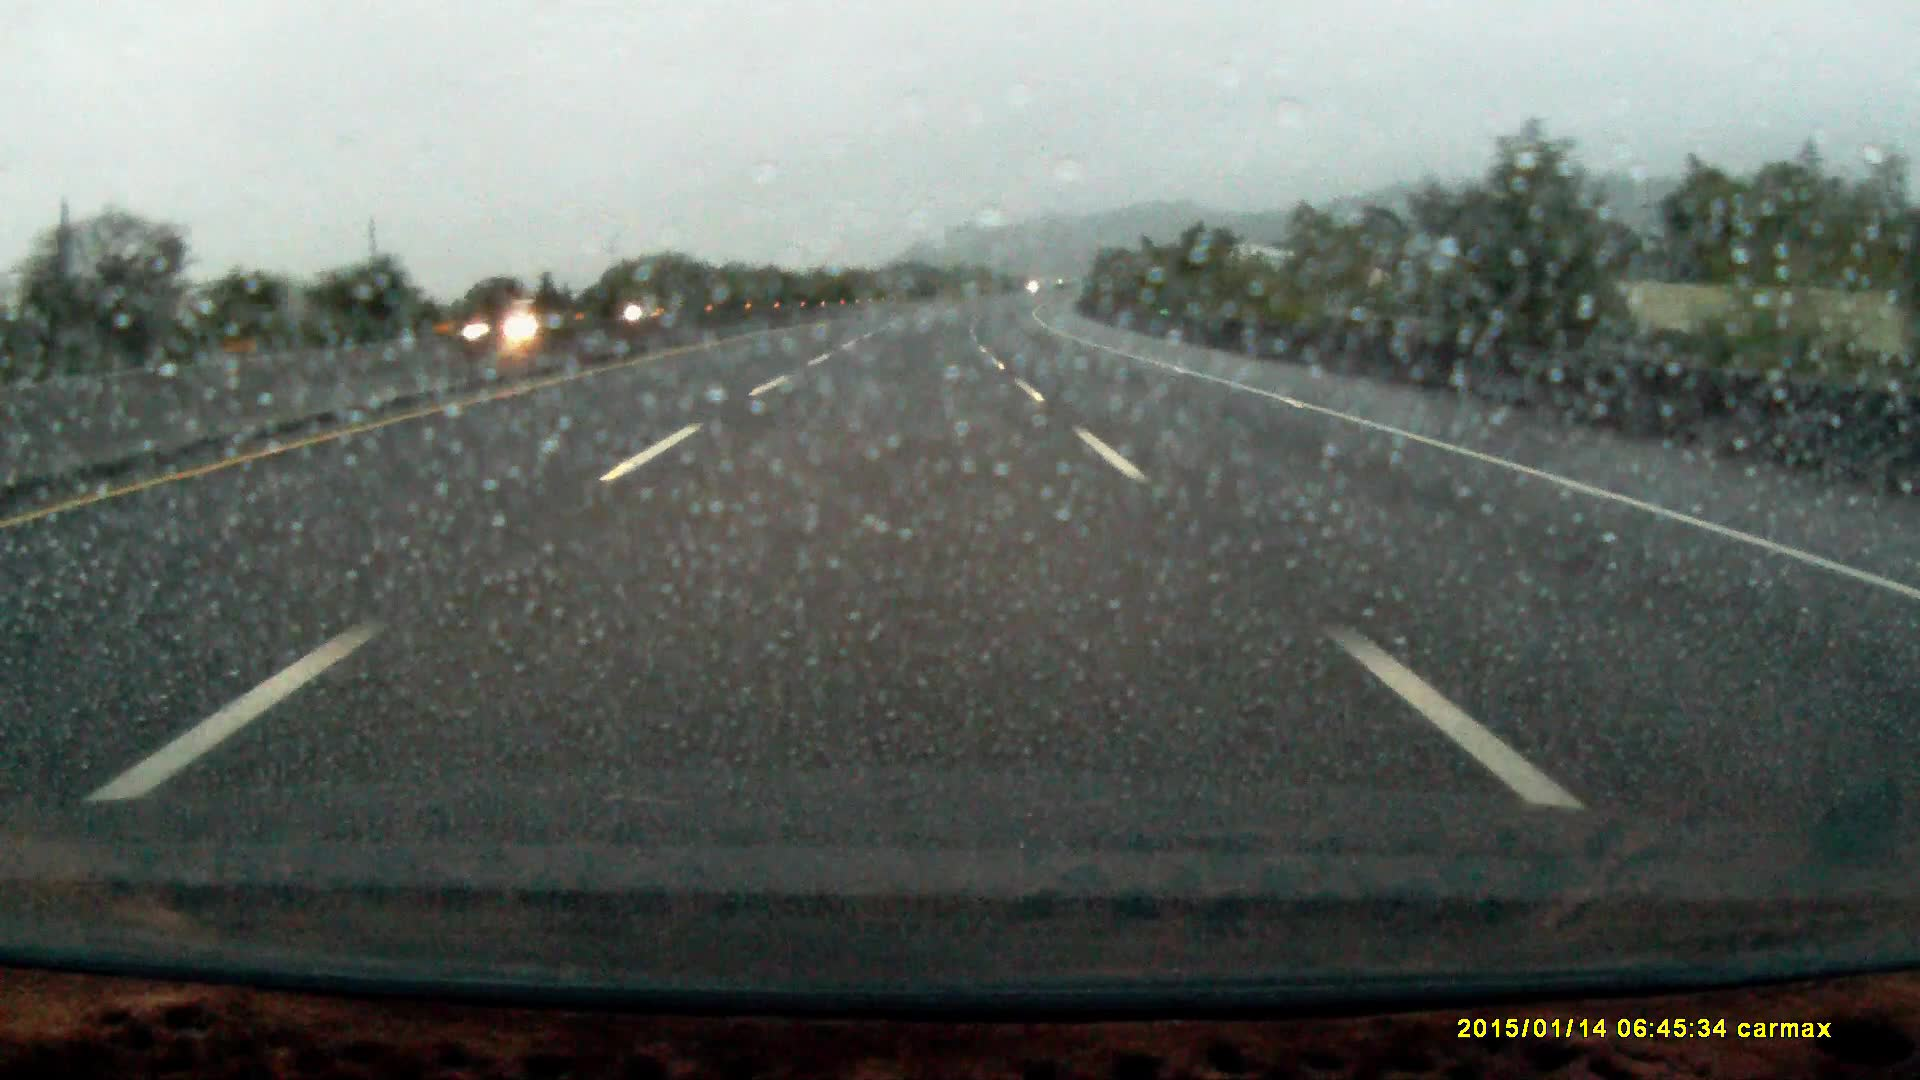vehicle: (465, 299, 593, 338), (622, 294, 695, 324)
